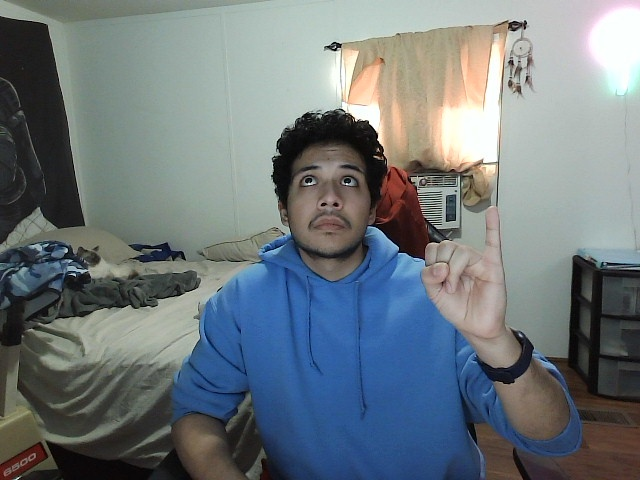I: (420, 205, 517, 339)
